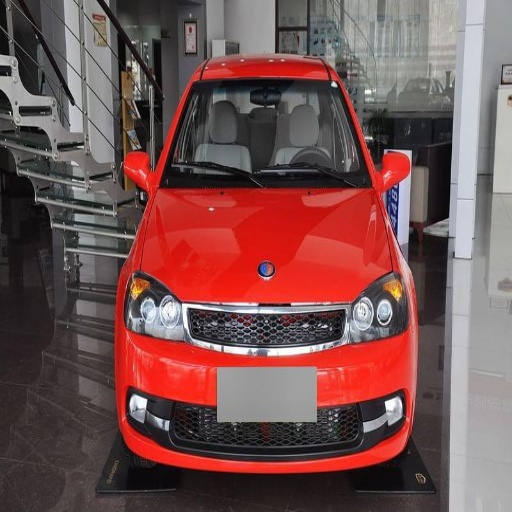front_bumper: (121, 303, 414, 472)
front_right_light: (122, 269, 189, 341)
hood: (140, 188, 395, 302)
